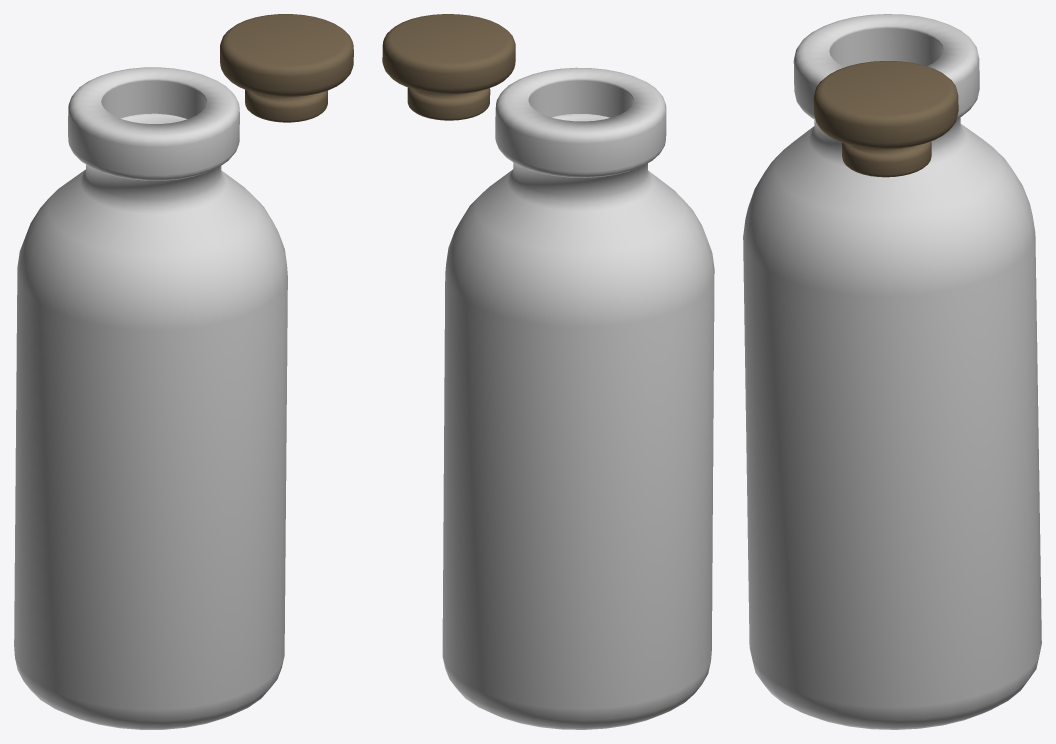
Rendered from MilkBottle.glb.
3 views of the same model, side by side, from view 1: azimuth 30°, elevation 25°; view 2: azimuth 150°, elevation 25°; view 3: azimuth 270°, elevation 25° (orthographic). The views are drawn at different scales.
Parts seen in each view (by area): view 1: Cylinder, Cylinder.001; view 2: Cylinder, Cylinder.001; view 3: Cylinder, Cylinder.001.
Part boxes in pixels (left/top/right/bottom): Cylinder: left=14, top=67, right=287, bottom=729; Cylinder.001: left=220, top=14, right=353, bottom=122; Cylinder: left=442, top=67, right=714, bottom=729; Cylinder.001: left=382, top=14, right=515, bottom=120; Cylinder: left=743, top=14, right=1041, bottom=729; Cylinder.001: left=813, top=61, right=958, bottom=177.
Bounding box in the file's own units: 0.9012 × 1.72 × 0.7007.
